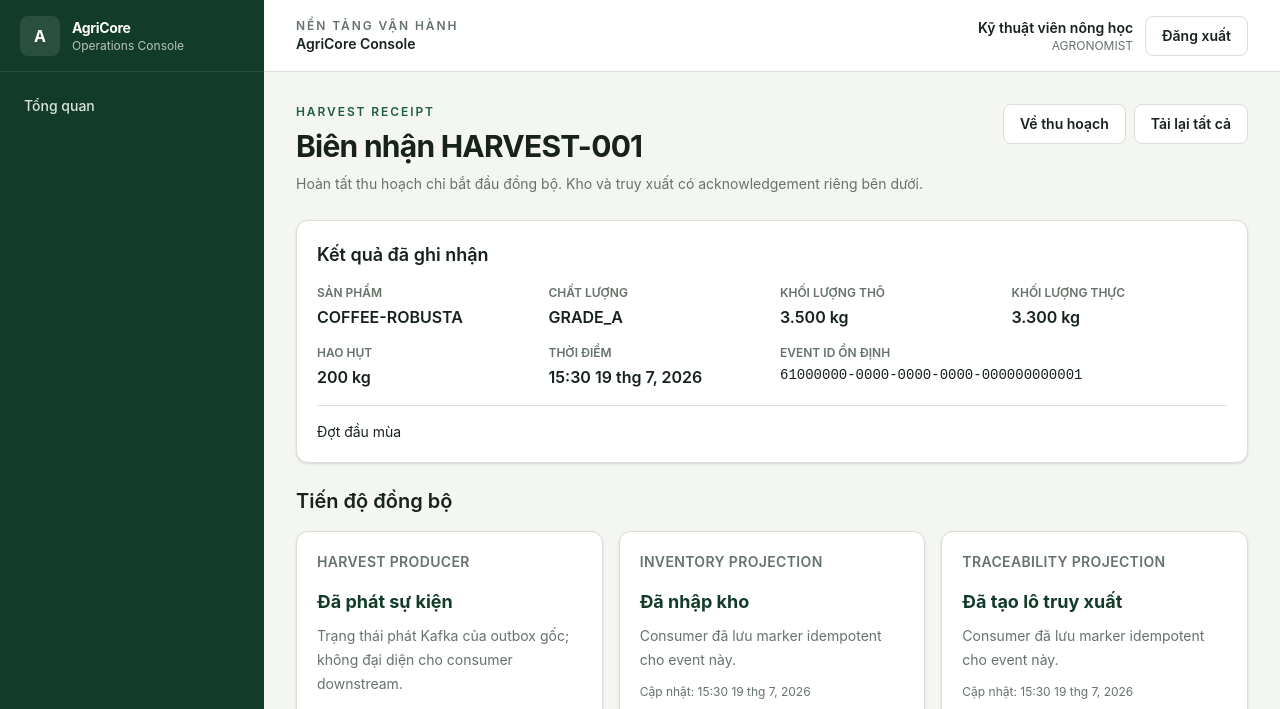
Scenario: harvest receipt resilience › revalidates harvest access before refreshing event and consumer state
expect the text "Đã tạo lô truy xuất" is shown: met, box [962,591,1122,612]
Click the button "Tải lại tất cả" at coordinates (1191, 124), box [1134,104,1248,144]
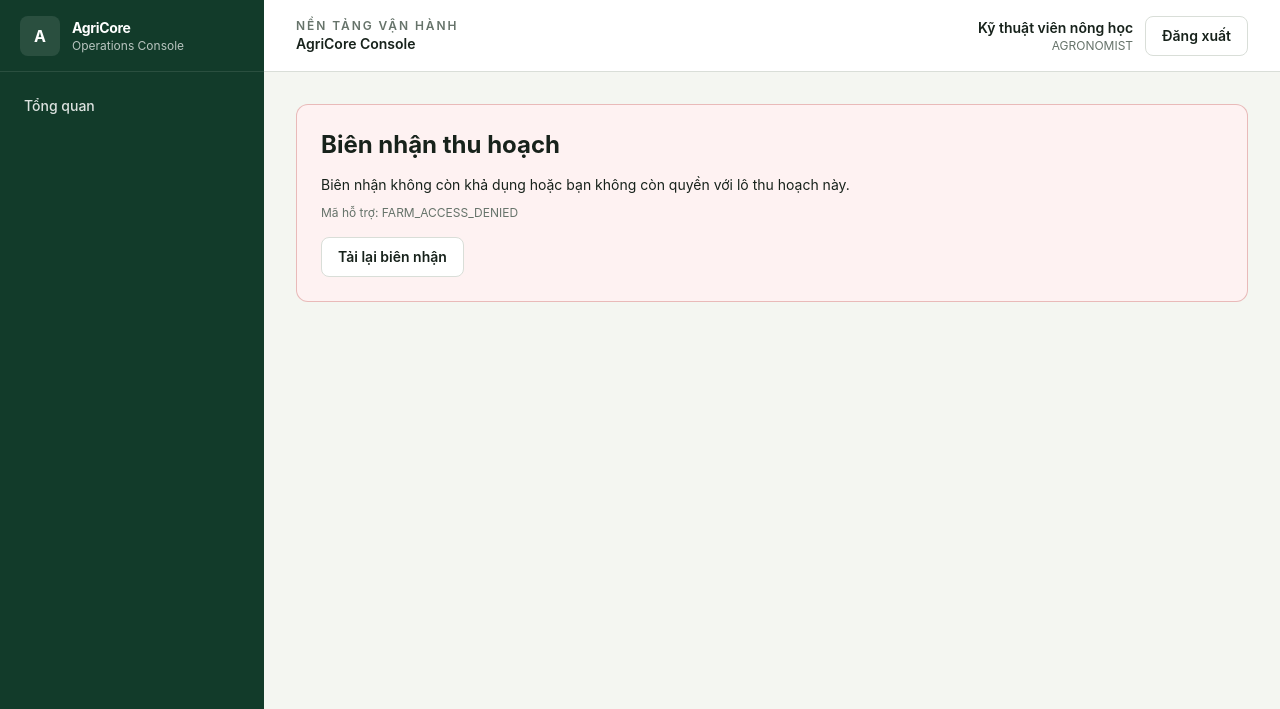
expect the message shows "không còn quyền": met, box [321,176,850,193]
